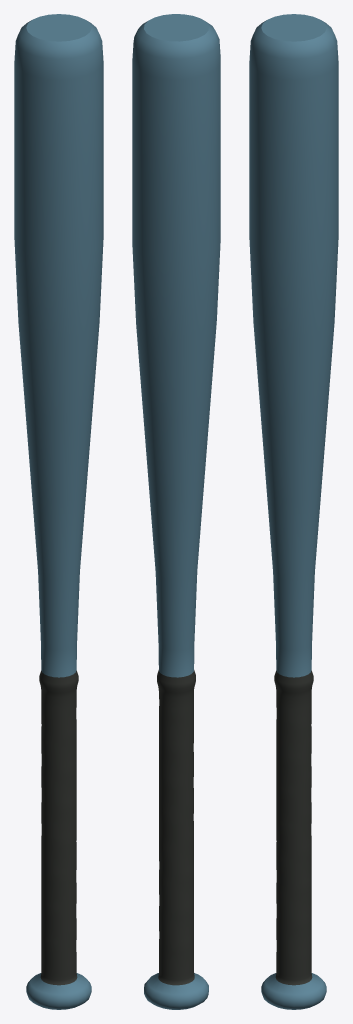
Rendered from A-NEW-20261027-BASEBALL-BAT-001_LOD2_R2.glb.
3 renders of one model, left to right at view 1: azimuth 90°, elevation 25°; view 2: azimuth 150°, elevation 25°; view 3: azimuth 270°, elevation 25°, orthographic.
Parts seen in each view (by area): view 1: continuous original knob grip taper and barrel; view 2: continuous original knob grip taper and barrel; view 3: continuous original knob grip taper and barrel.
Boxes of the visible parts, x1,y1,x2,y2 form: continuous original knob grip taper and barrel: [14, 14, 103, 1009]; continuous original knob grip taper and barrel: [132, 14, 220, 1009]; continuous original knob grip taper and barrel: [249, 14, 338, 1009].
Size of the model in its own units: 0.068 by 0.818 by 0.068.
